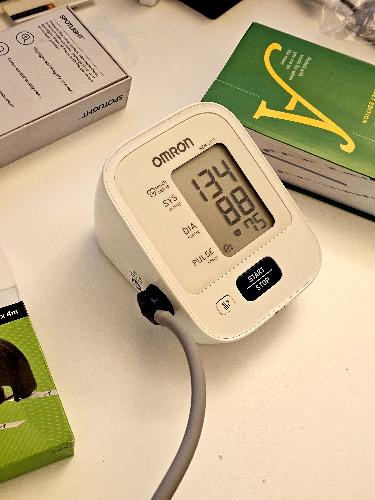bpm: (167, 136, 280, 260)
